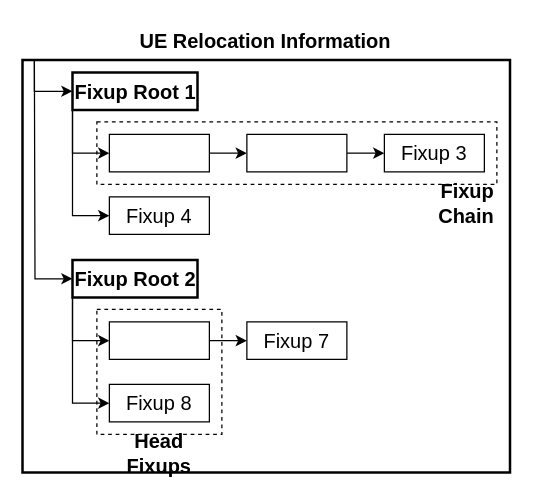
The diagram is 533 pixels wide and 496 high, and some of its shapes have lost their labels. The box of each missing label's shape, as (x1, y1, x2, y2) in pixels:
Fixup 1: (108, 133, 209, 172)
Fixup 2: (246, 133, 347, 172)
Fixup 6: (108, 321, 209, 359)
